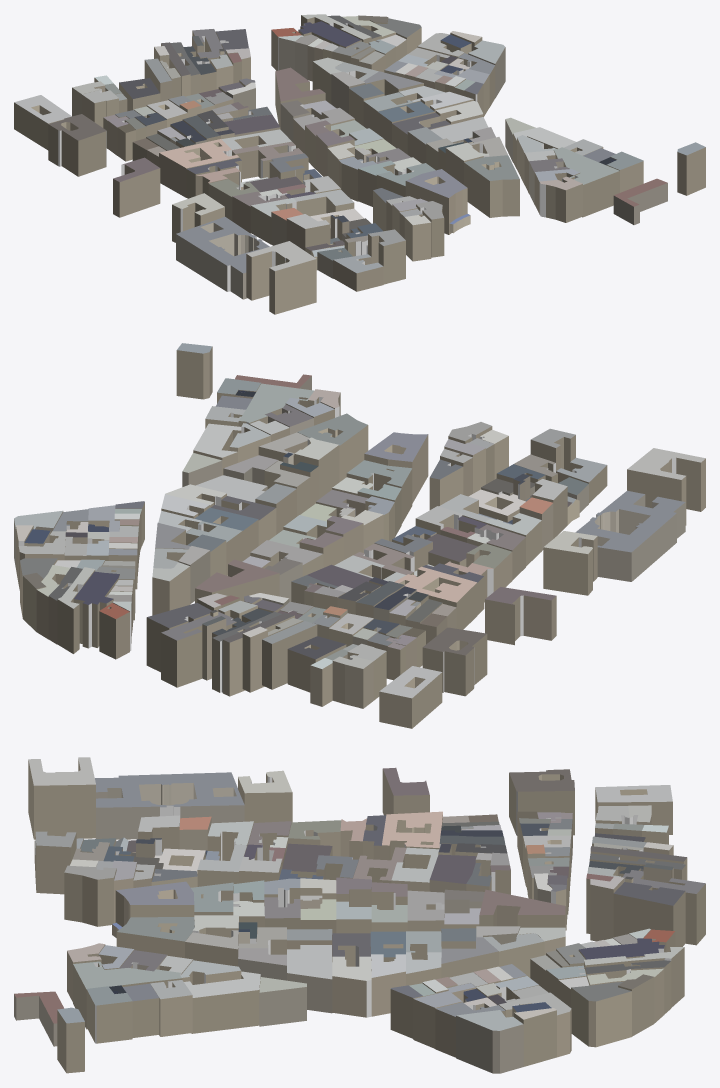
3 renders of one model, top to bottom at view 1: azimuth 30°, elevation 25°; view 2: azimuth 150°, elevation 25°; view 3: azimuth 270°, elevation 25°, orthographic. The views are drawn at different scales.
Visible parts, largest first — view 1: tuile; view 2: tuile; view 3: tuile.
Part boxes in pixels (x1,y1,x2,y2): tuile: (14,14,705,314); tuile: (14,343,705,728); tuile: (14,757,705,1073).
Bounding box in the file's own units: 269 × 31.14 × 282.
